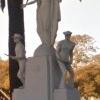Statue: (10, 9, 83, 92)
